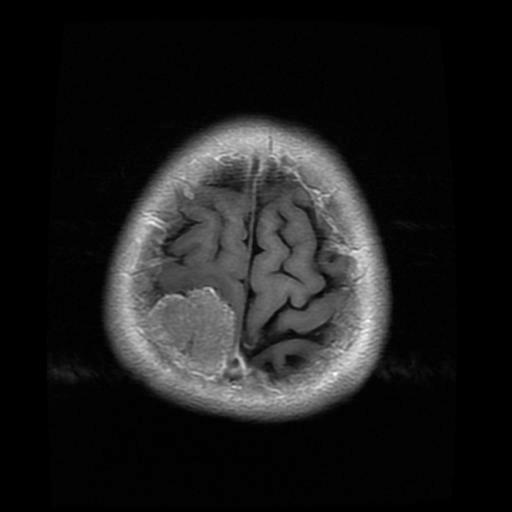Tumour-Meningioma: (127, 256, 257, 398)
